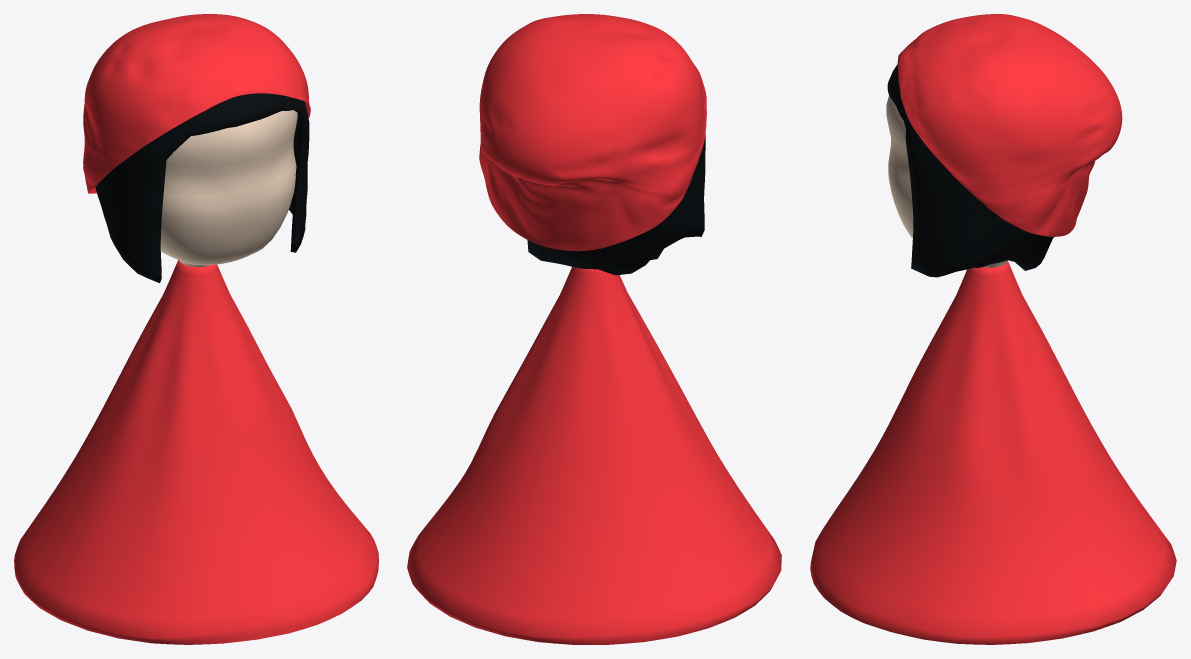
3 renders of one model, left to right at view 1: azimuth 30°, elevation 25°; view 2: azimuth 150°, elevation 25°; view 3: azimuth 270°, elevation 25°, orthographic.
Parts seen in each view (by area): view 1: Cone, gorroretop_001, Sphere, hairrrr; view 2: Cone, gorroretop_001, hairrrr; view 3: Cone, gorroretop_001, hairrrr, Sphere.
Part boxes in pixels (box(x1,y1,x2,y2)): Cone: box(14, 260, 378, 644); gorroretop_001: box(83, 14, 310, 193); Sphere: box(160, 110, 297, 267); hairrrr: box(95, 93, 309, 283); Cone: box(407, 266, 781, 644); gorroretop_001: box(479, 14, 706, 251); hairrrr: box(527, 133, 705, 275); Cone: box(810, 260, 1176, 644); gorroretop_001: box(897, 14, 1122, 236); hairrrr: box(887, 64, 1053, 277); Sphere: box(886, 95, 1007, 267).
Bounding box in the file's own units: 322 × 514 × 319.
